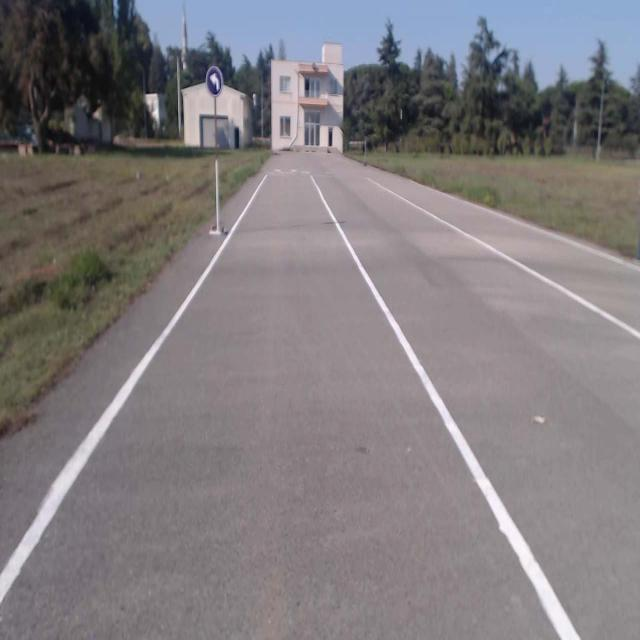sol: (206, 66, 223, 96)
